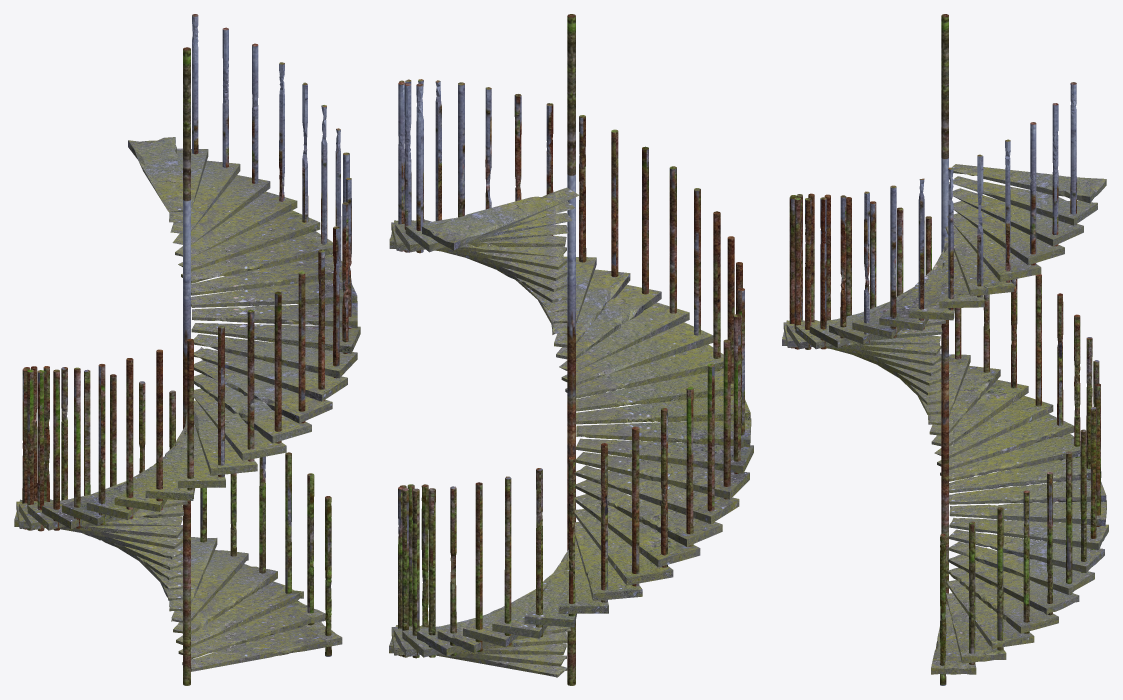
Rendered from Stairs (1).fbx.
The picture shows the model from 3 angles, left to right: view 1: azimuth 30°, elevation 25°; view 2: azimuth 150°, elevation 25°; view 3: azimuth 270°, elevation 25°; orthographic projection. The views are drawn at different scales.
Visible parts, largest first — view 1: Spiral Stairs; view 2: Spiral Stairs; view 3: Spiral Stairs.
Boxes of the visible parts, bbox=[...] form: Spiral Stairs: bbox=[14, 14, 360, 685]; Spiral Stairs: bbox=[389, 14, 753, 685]; Spiral Stairs: bbox=[782, 14, 1108, 685].
Size of the model in its own units: 1441 by 2938 by 1441.
